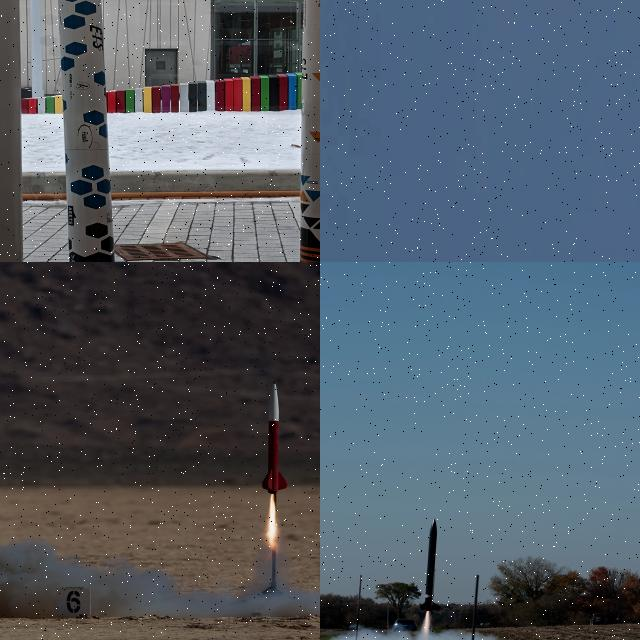Rocket: (57, 0, 115, 262), (262, 379, 288, 494), (420, 518, 442, 612)
